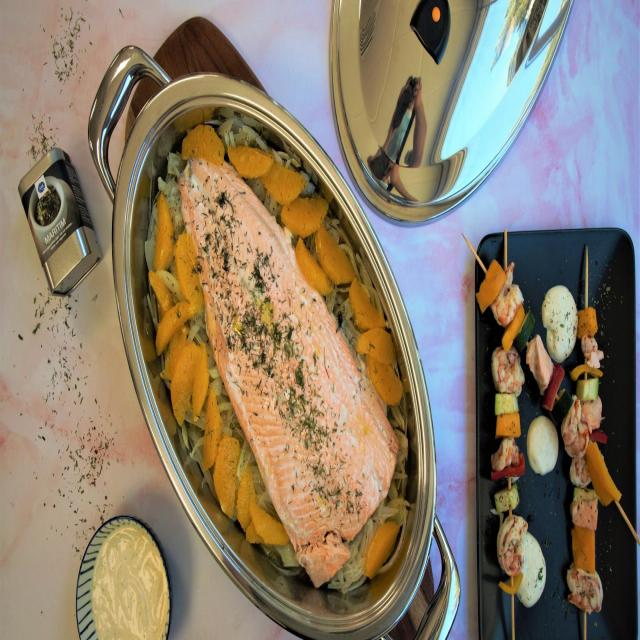pescado: (152, 150, 402, 597)
